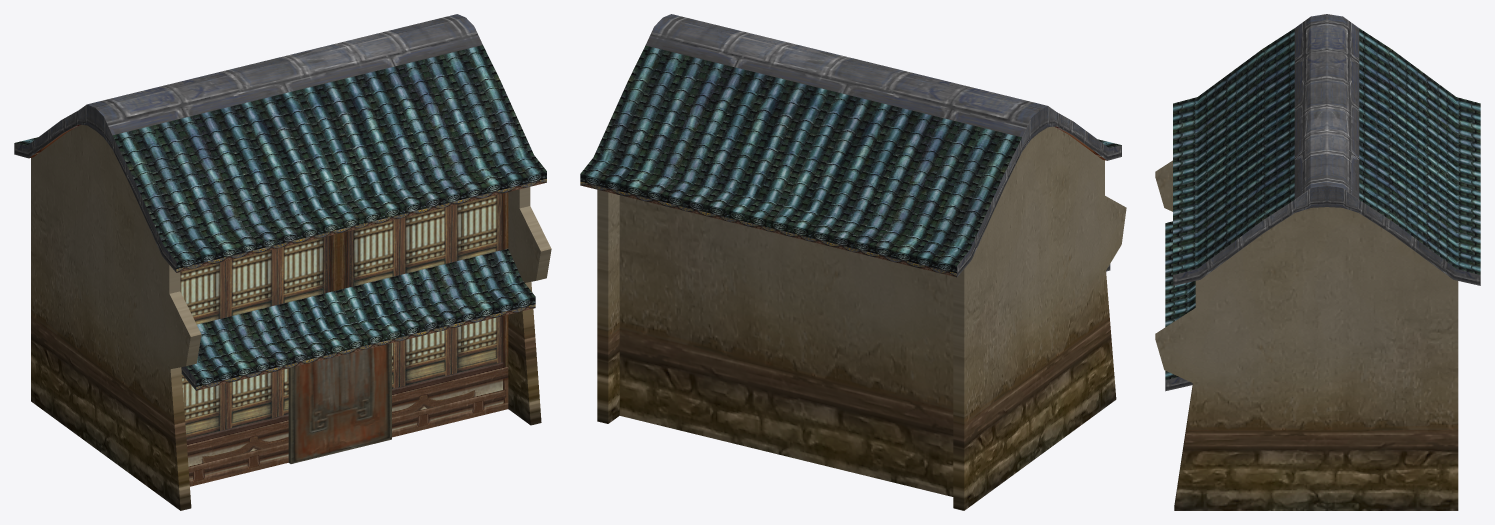
File: a_fangzi_005.fbx
3 views of the same model, side by side, from view 1: azimuth 30°, elevation 25°; view 2: azimuth 150°, elevation 25°; view 3: azimuth 270°, elevation 25° (orthographic). The views are drawn at different scales.
Visible parts, largest first — view 1: polySurface189, polySurface193, polySurface192, polySurface185, polySurface196, polySurface186, polySurface197, polySurface184, polySurface190, polySurface187, polySurface191, polySurface188 (+1 smaller); view 2: polySurface198, polySurface189, polySurface195, polySurface194, polySurface185, polySurface188, polySurface193; view 3: polySurface188, polySurface185, polySurface194, polySurface192, polySurface195, polySurface193, polySurface196, polySurface197, polySurface189.
Boxes of the visible parts, <box> form: polySurface189: <box>31,124,201,510</box>; polySurface193: <box>112,90,361,272</box>; polySurface192: <box>298,45,546,227</box>; polySurface185: <box>78,14,482,148</box>; polySurface196: <box>339,248,535,349</box>; polySurface186: <box>392,315,508,437</box>; polySurface197: <box>181,290,365,390</box>; polySurface184: <box>288,343,391,463</box>; polySurface190: <box>182,368,288,486</box>; polySurface187: <box>338,192,508,289</box>; polySurface191: <box>180,233,338,324</box>; polySurface188: <box>508,187,551,425</box>; polySurface198: <box>619,195,953,496</box>; polySurface189: <box>953,126,1126,510</box>; polySurface195: <box>768,91,1022,277</box>; polySurface194: <box>580,45,833,231</box>; polySurface185: <box>645,14,1056,150</box>; polySurface188: <box>597,189,619,423</box>; polySurface193: <box>1055,112,1121,160</box>; polySurface188: <box>1155,207,1458,510</box>; polySurface185: <box>1294,14,1359,212</box>; polySurface194: <box>1358,114,1480,285</box>; polySurface192: <box>1173,114,1295,285</box>; polySurface195: <box>1359,28,1480,188</box>; polySurface193: <box>1173,28,1294,189</box>; polySurface196: <box>1165,291,1195,391</box>; polySurface197: <box>1165,221,1195,301</box>; polySurface189: <box>1155,160,1172,211</box>.
Bounding box in the file's own units: 7.44 × 6.63 × 5.97.
